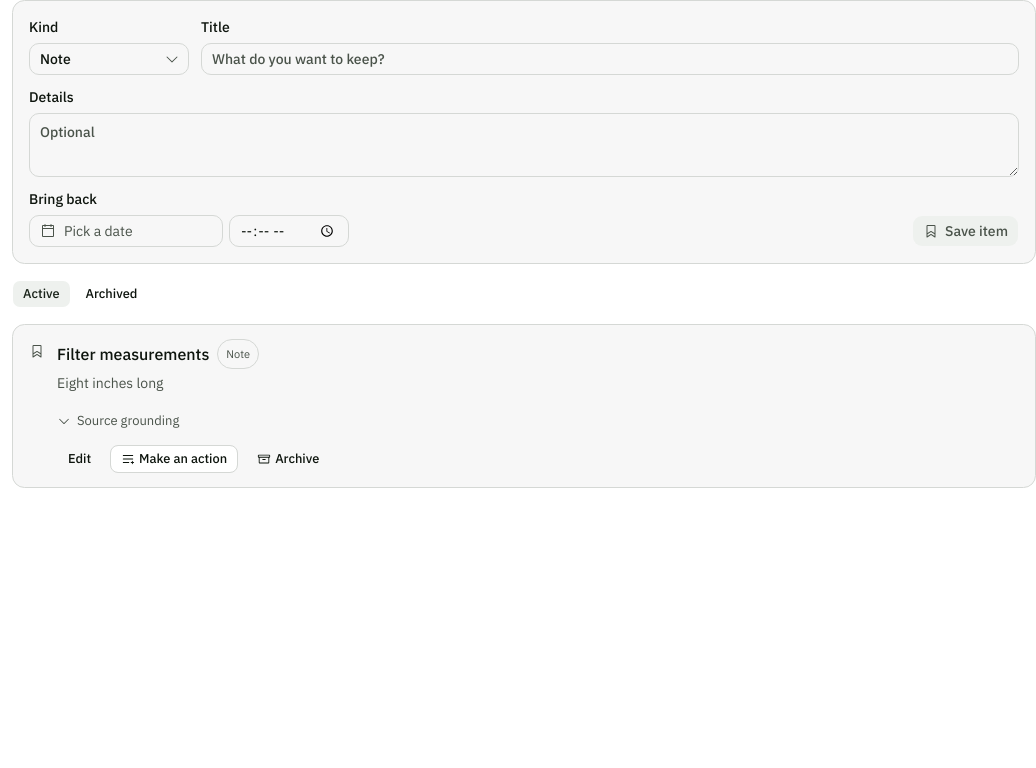
Test: SavedItemsSurface › requires impact inspection and a second confirmation before deleting unique evidence
Click the button "Source grounding" at (118, 421), box [57,409,179,433]
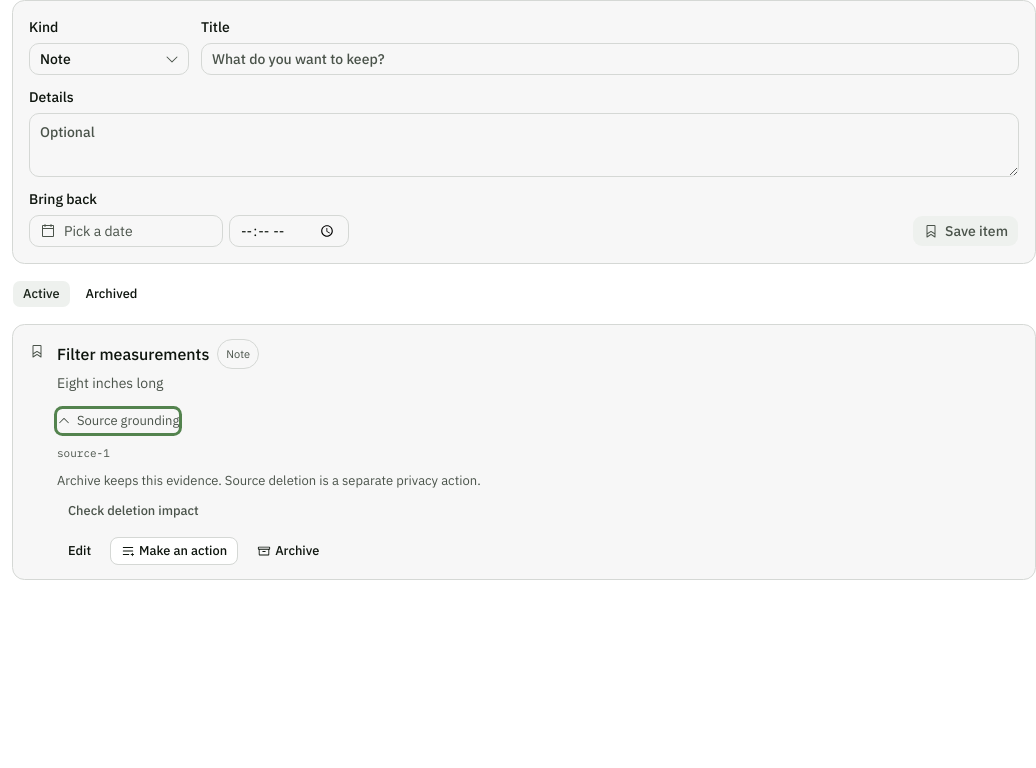
Click the button "Check deletion impact" at (133, 511), box [57,497,210,525]
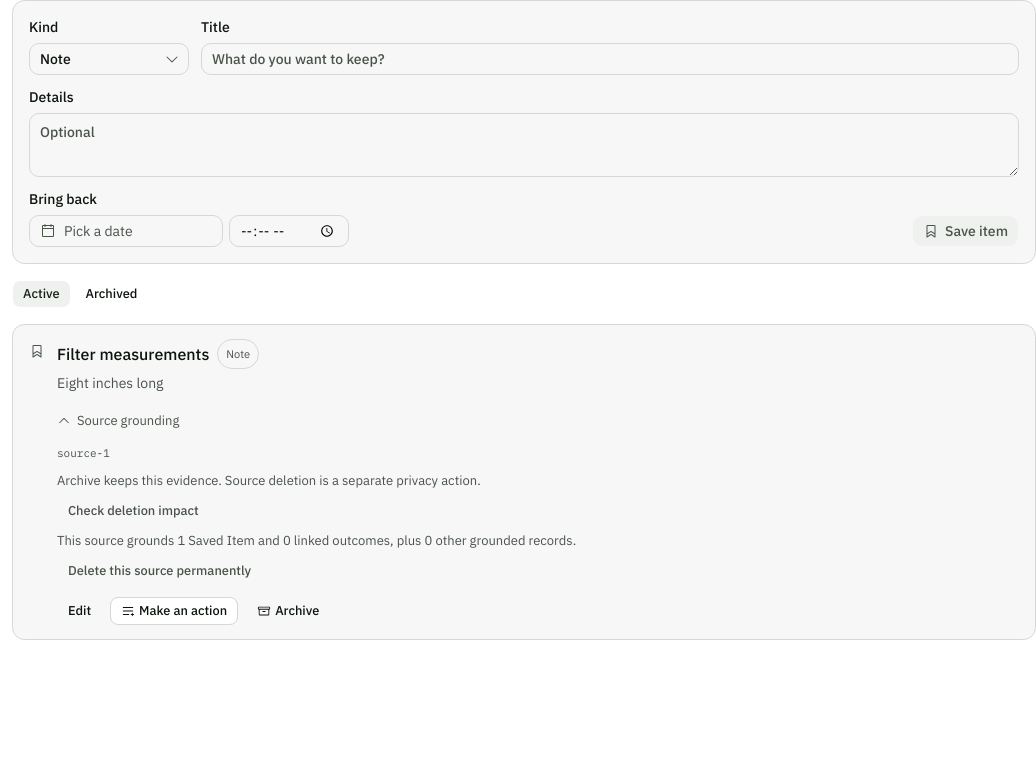
Click the button "Delete this source permanently" at (160, 571), box [57,557,262,585]
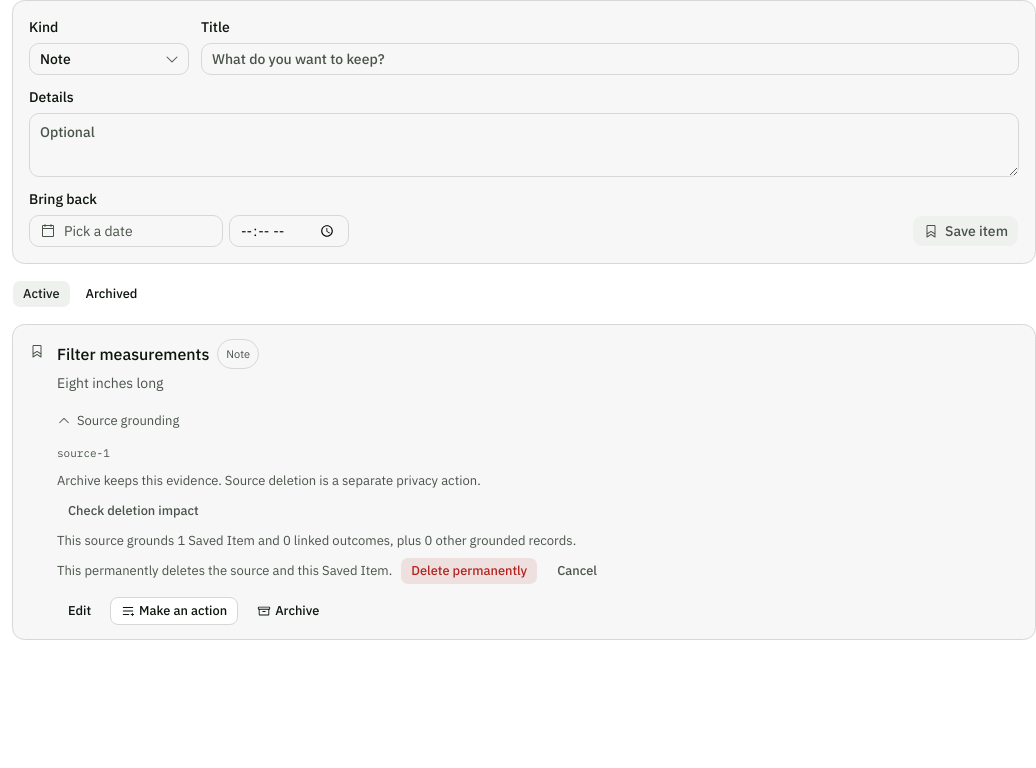
Click the button "Delete permanently" at (469, 571), box [400,557,538,585]
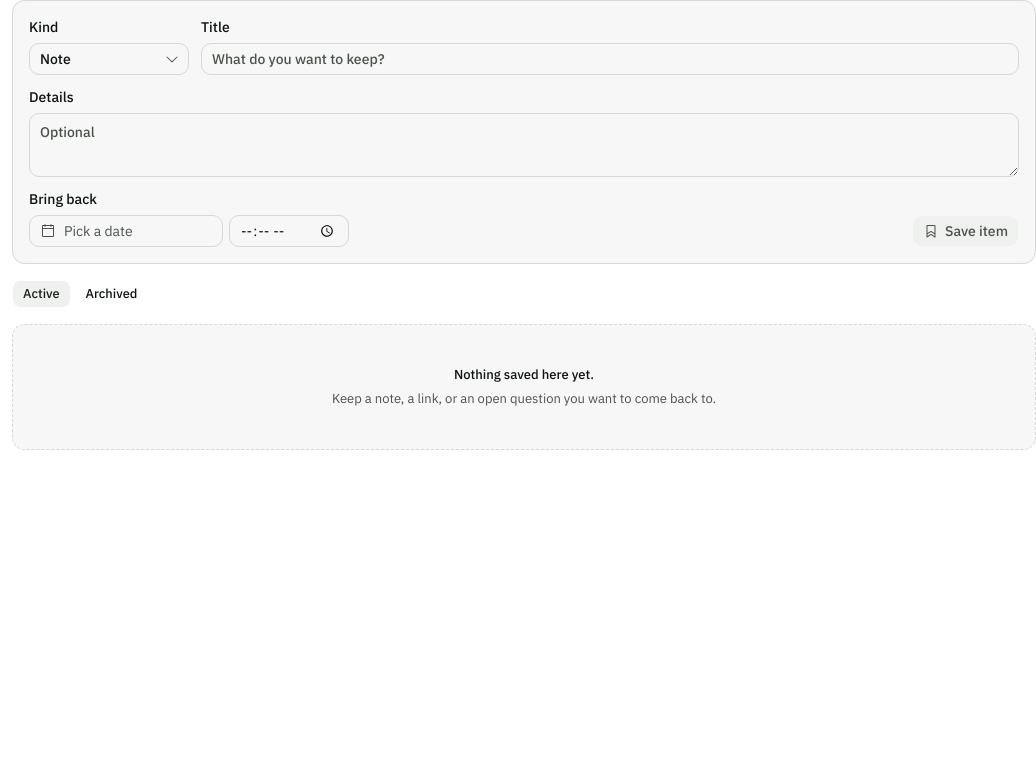
Check: the heading "Filter measurements" is gone
